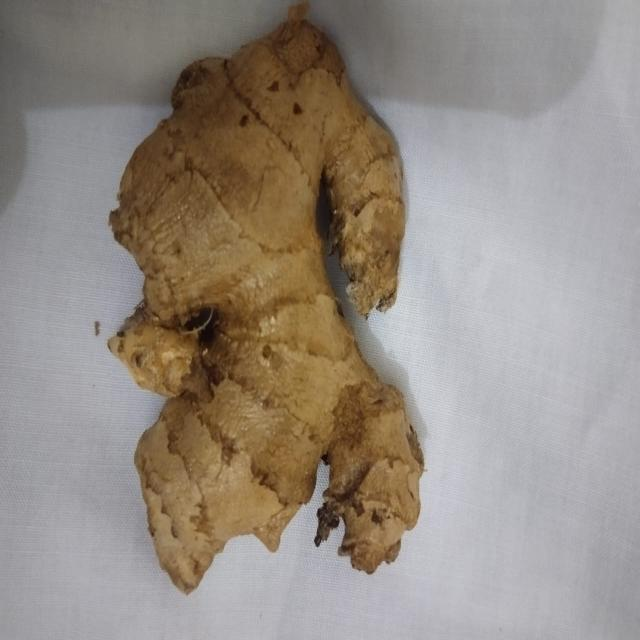ginger: (120, 20, 424, 595)
